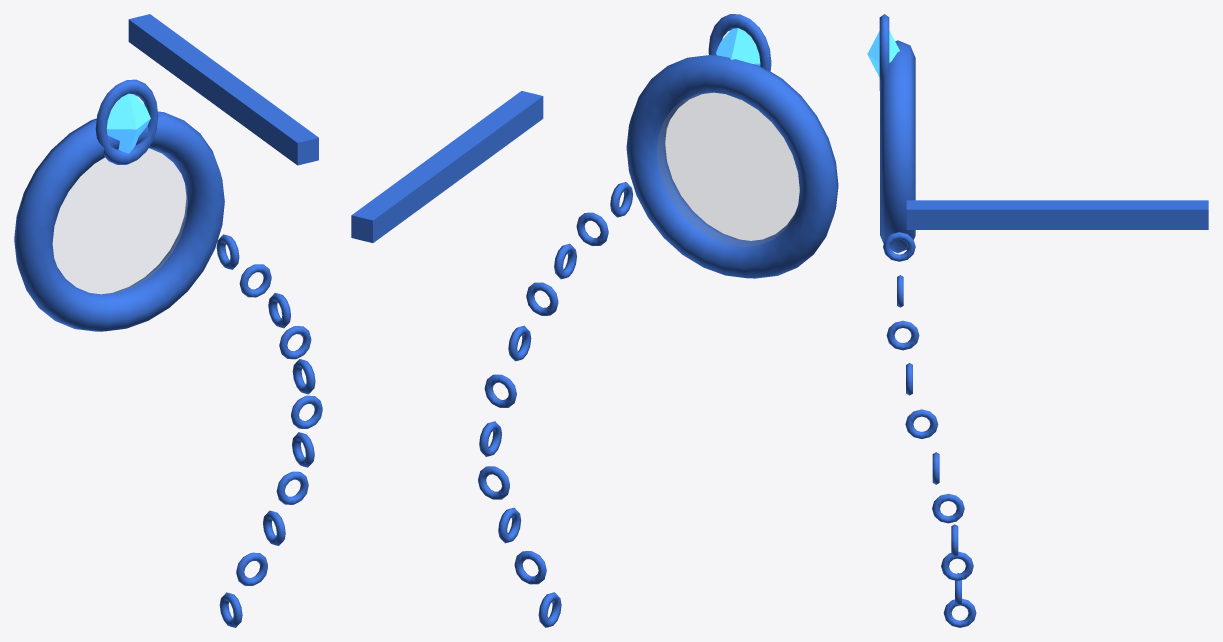
The model's file is gl_eqen1.glb.
The picture shows the model from 3 angles, left to right: view 1: azimuth 30°, elevation 25°; view 2: azimuth 150°, elevation 25°; view 3: azimuth 270°, elevation 25°; orthographic projection. The views are drawn at different scales.
Bounding box in the file's own units: 1.17 × 2.1 × 1.18.
